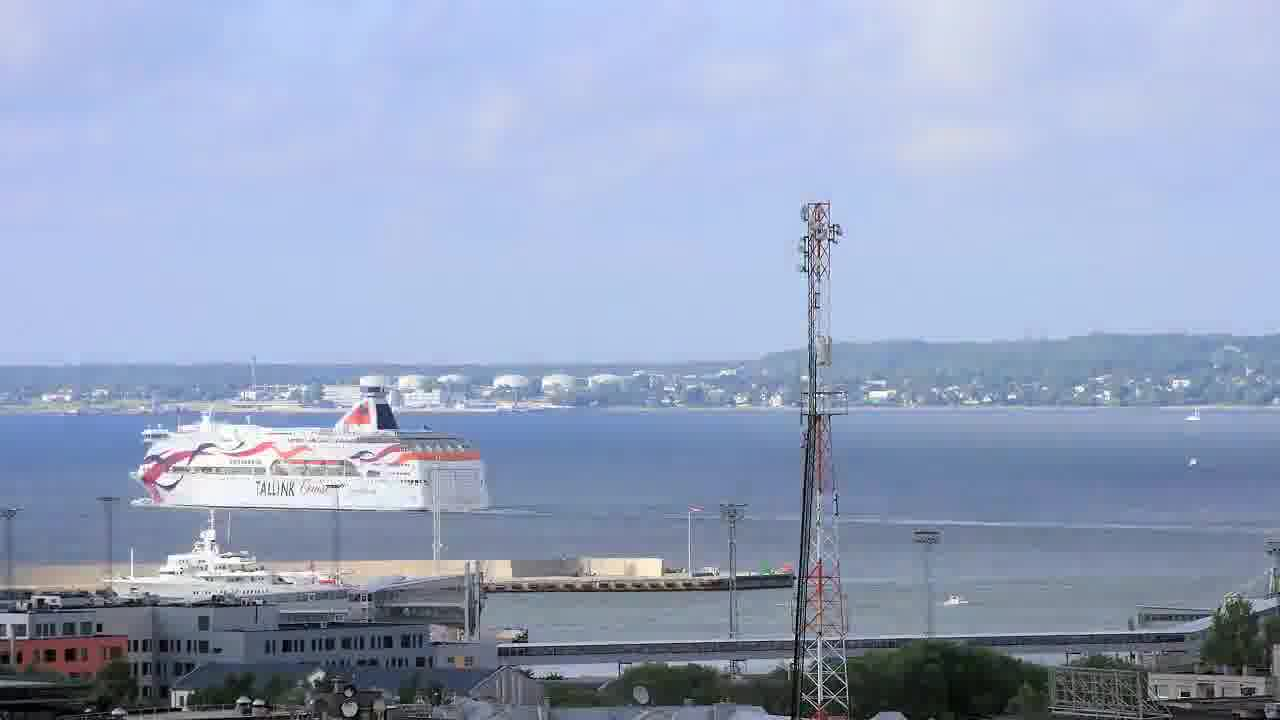type-3: (108, 354, 503, 530), (96, 508, 381, 605)
type-4: (929, 586, 977, 616)
